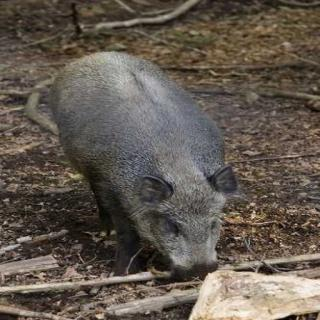Pig: (35, 51, 243, 305)
